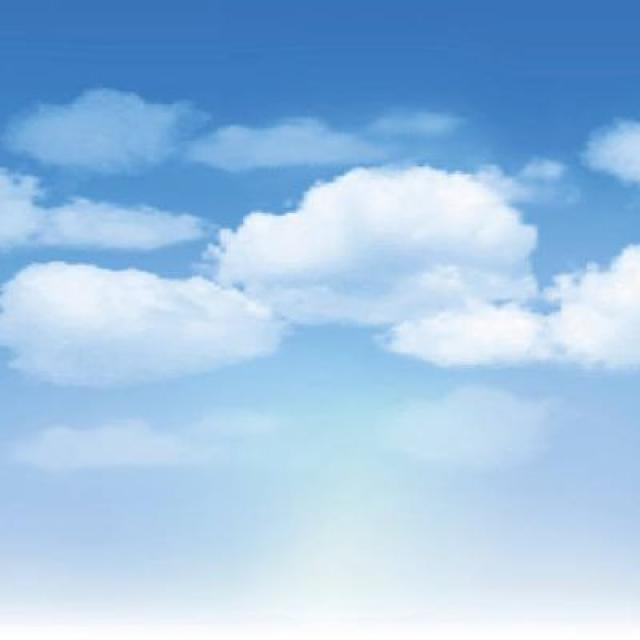Cu: (1, 101, 639, 405)
